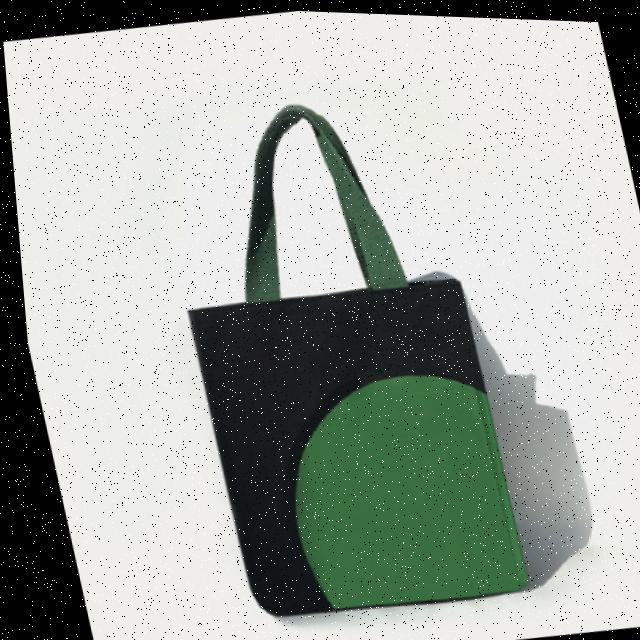ecobag: (96, 47, 566, 640)
